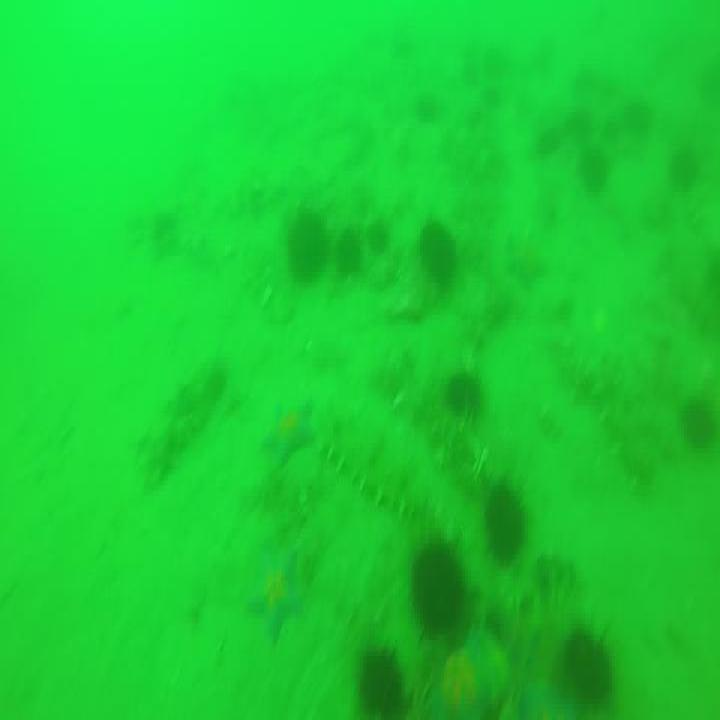echinus: (412, 538, 475, 642), (351, 642, 407, 720), (487, 473, 527, 565), (562, 631, 615, 697), (419, 219, 461, 292), (289, 203, 324, 281), (681, 393, 713, 453), (666, 144, 704, 190), (449, 372, 485, 420), (575, 148, 607, 192), (624, 93, 653, 135), (335, 231, 359, 274)
holothurian: (316, 406, 427, 518), (583, 340, 658, 476)
starfish: (242, 549, 301, 635), (262, 396, 314, 468)
